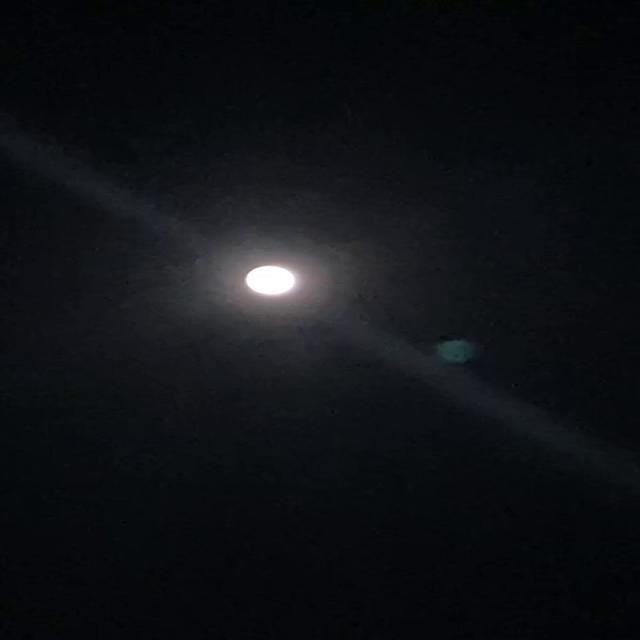moon: (228, 258, 306, 301)
